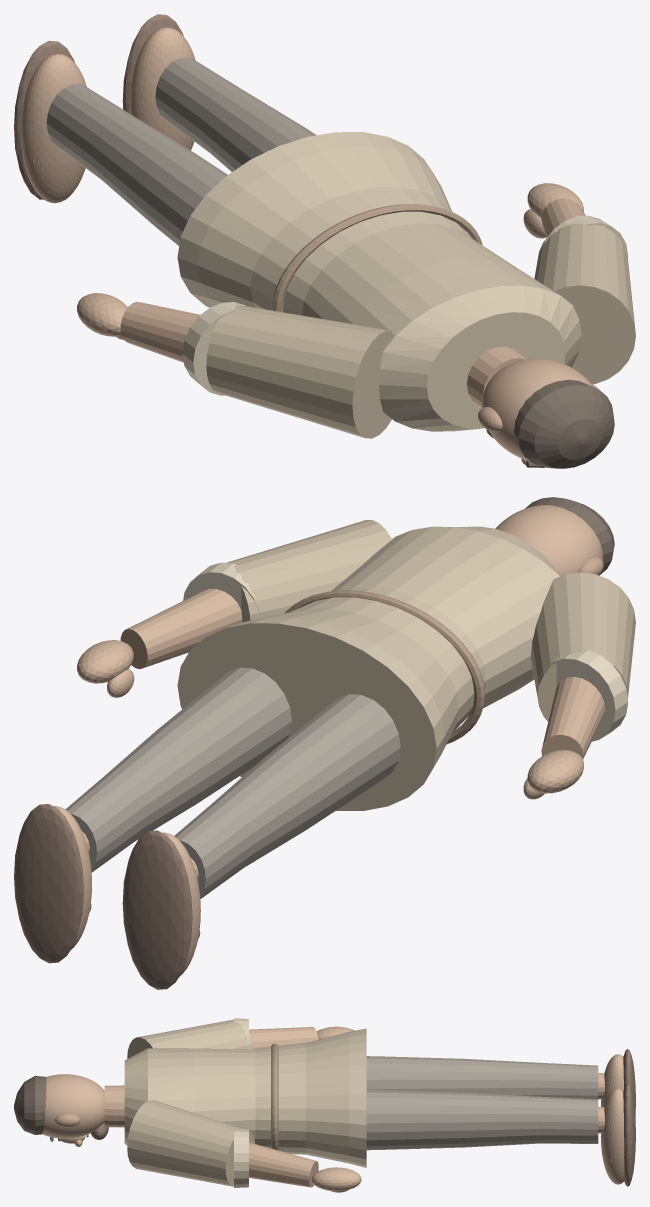
Rendered from ordinary_historical_man.glb.
3 views of the same model, one above another, from view 1: azimuth 30°, elevation 25°; view 2: azimuth 150°, elevation 25°; view 3: azimuth 270°, elevation 25° (orthographic). The views are drawn at different scales.
Parts seen in each view (by area): view 1: linen_tunic_main, L_linen_sleeve, L_trouser_leg, R_linen_sleeve, R_trouser_leg, short_dark_hair, L_foot_and_toes, head, R_foot_and_toes, L_forearm, plain_waist_cord, L_sleeve_cuff (+6 smaller); view 2: linen_tunic_main, L_trouser_leg, R_trouser_leg, L_linen_sleeve, L_sandal_sole, R_sandal_sole, R_linen_sleeve, R_forearm, head, L_forearm, L_sleeve_cuff, plain_waist_cord (+6 smaller); view 3: linen_tunic_main, R_trouser_leg, L_trouser_leg, R_linen_sleeve, head, L_linen_sleeve, R_forearm, R_foot_and_toes, short_dark_hair, L_forearm, R_sandal_sole, R_hand (+7 smaller).
Boxes of the visible parts, x1,y1,x2,y2 form: linen_tunic_main: (177,132,581,431); L_linen_sleeve: (206,305,392,438); L_trouser_leg: (46,84,227,245); R_linen_sleeve: (534,223,635,384); R_trouser_leg: (155,57,316,171); short_dark_hair: (513,379,614,468); L_foot_and_toes: (21,54,86,203); head: (482,358,593,460); R_foot_and_toes: (129,27,195,150); L_forearm: (120,302,200,362); plain_waist_cord: (272,204,482,312); L_sleeve_cuff: (182,302,245,395); linen_tunic_main: (177,526,560,810); L_trouser_leg: (174,694,400,898); R_trouser_leg: (65,667,291,872); L_linen_sleeve: (530,572,635,721); L_sandal_sole: (122,830,192,989); R_sandal_sole: (14,804,83,963); R_linen_sleeve: (226,520,392,622); R_forearm: (120,589,242,668); head: (495,505,602,576); L_forearm: (541,676,604,758); L_sleeve_cuff: (538,649,628,741); plain_waist_cord: (285,590,485,744); linen_tunic_main: (124,1028,366,1167); R_trouser_leg: (366,1090,598,1150); L_trouser_leg: (366,1056,598,1099); R_linen_sleeve: (127,1100,254,1186); head: (42,1074,104,1138); L_linen_sleeve: (127,1019,254,1058); R_forearm: (249,1142,318,1187); R_foot_and_toes: (600,1088,624,1184); short_dark_hair: (14,1075,46,1134); L_forearm: (249,1027,318,1049); R_sandal_sole: (623,1083,635,1186); R_hand: (311,1167,361,1191).
Bounding box in the file's own units: 1.01 × 0.392 × 1.73.
